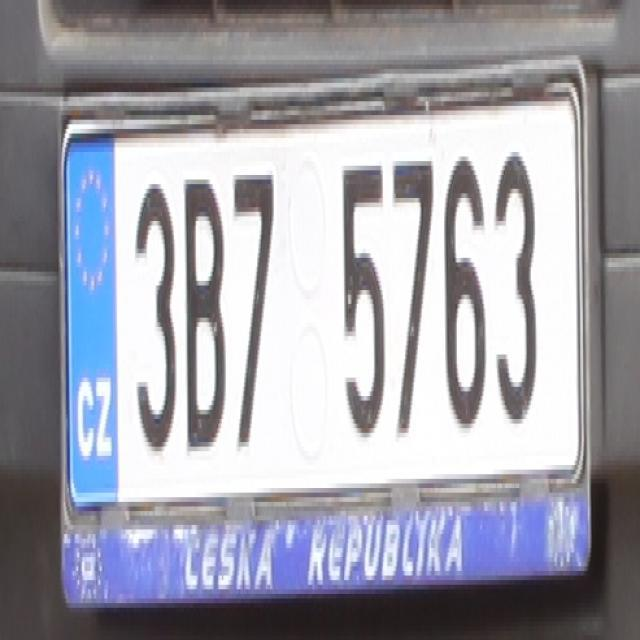3: (494, 138, 536, 419), (135, 184, 178, 447)
5: (338, 147, 386, 442)
6: (442, 142, 490, 428)
7: (390, 152, 432, 452), (232, 175, 276, 452)
B: (182, 175, 227, 452)
